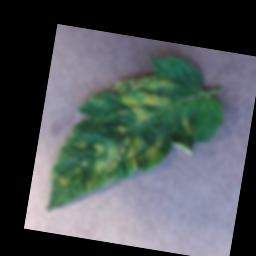Leaf_Mold: (50, 114, 164, 201), (105, 67, 176, 128)
